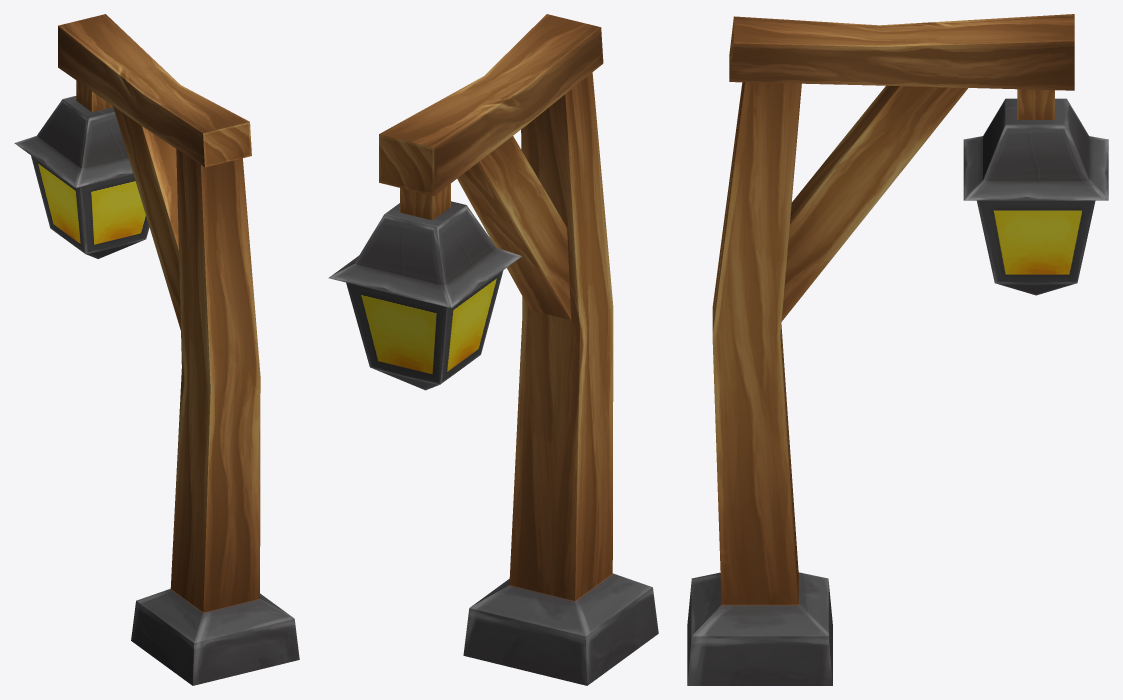
Rendered from street_light.FBX.
3 renders of one model, left to right at view 1: azimuth 30°, elevation 25°; view 2: azimuth 150°, elevation 25°; view 3: azimuth 270°, elevation 25°, orthographic. The views are drawn at different scales.
Parts seen in each view (by area): view 1: street_light; view 2: street_light; view 3: street_light.
Part boxes in pixels (x1,y1,x2,y2): street_light: (14, 14, 299, 685); street_light: (328, 14, 658, 685); street_light: (687, 14, 1108, 685).
Size of what is drawn, in the model's own units: 77.23 by 224 by 368.
